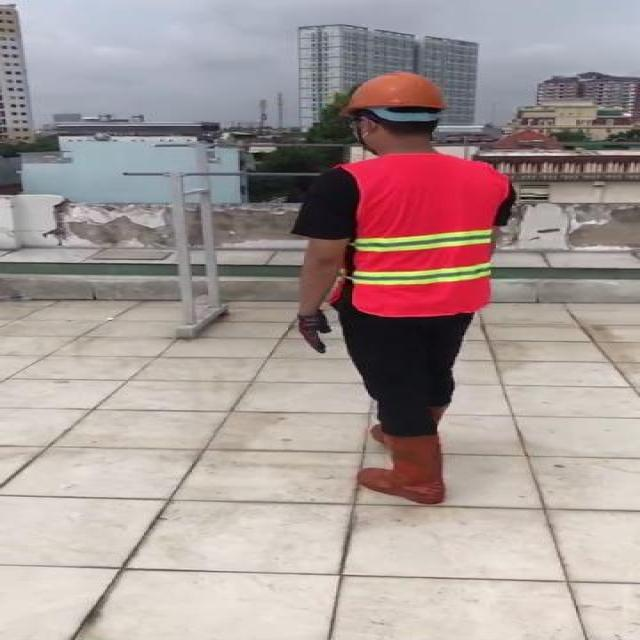boots: (361, 434, 448, 506)
hand_glove: (298, 312, 330, 355)
head_helmet: (331, 70, 449, 114)
person: (281, 65, 523, 514)
vest: (340, 155, 508, 319)
